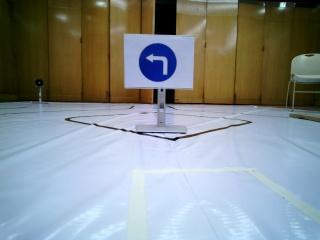left: (125, 38, 192, 86)
